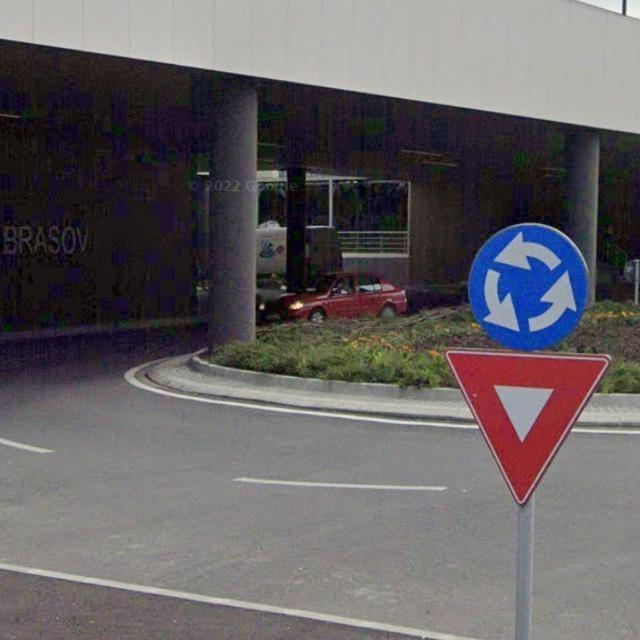prio_give_way: (443, 348, 608, 508)
